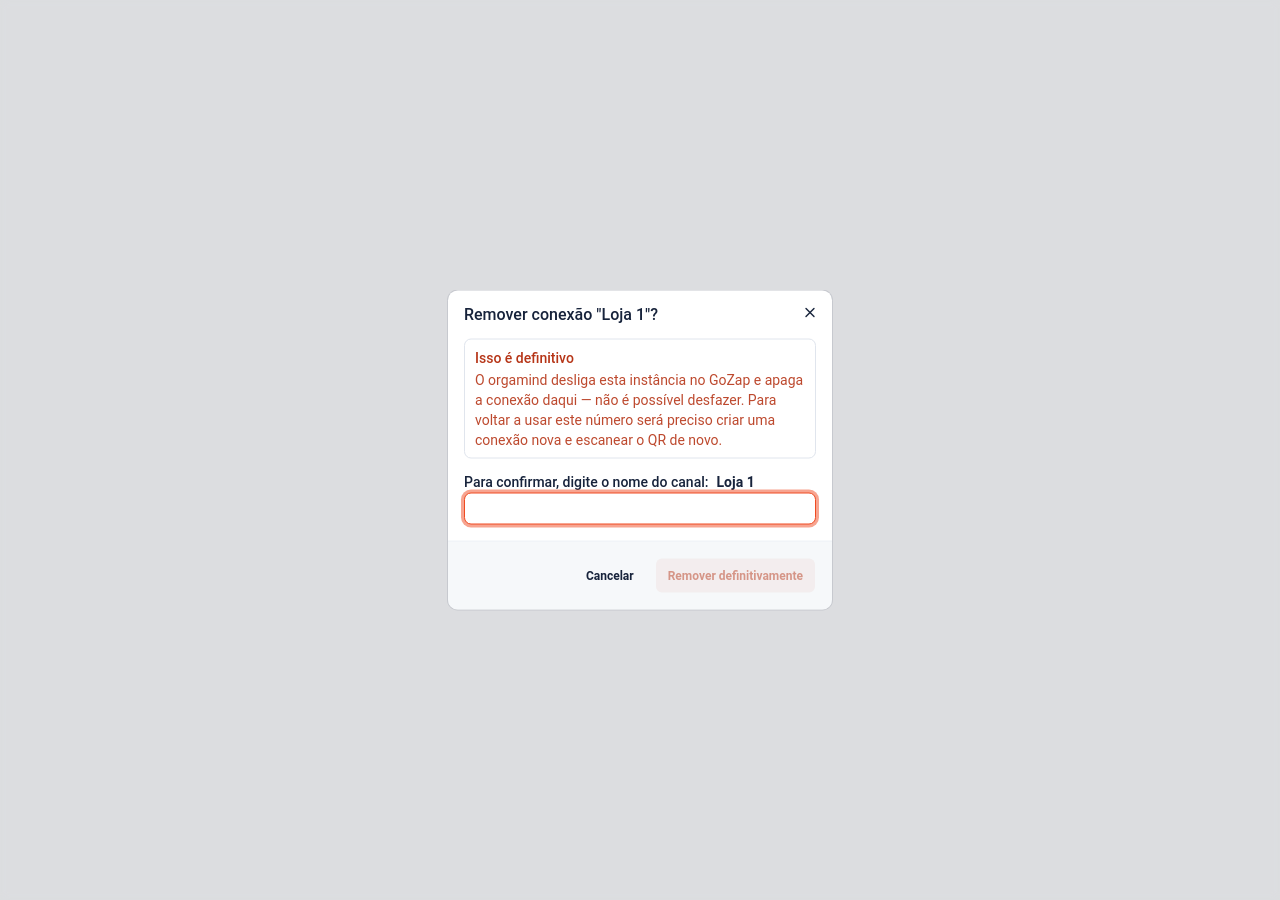
Test case: RemoveGozapChannelDialog › keeps "Remover definitivamente" disabled until the typed name matches exactly
This screenshot has width=1280, height=900.
expect the button "Remover definitivamente" is disabled: met, box [655,558,816,594]
Type "Loja" into the field labelled "Para confirmar, digite o nome do canal: Loja 1" at x=640, y=508, box [464,492,816,524]
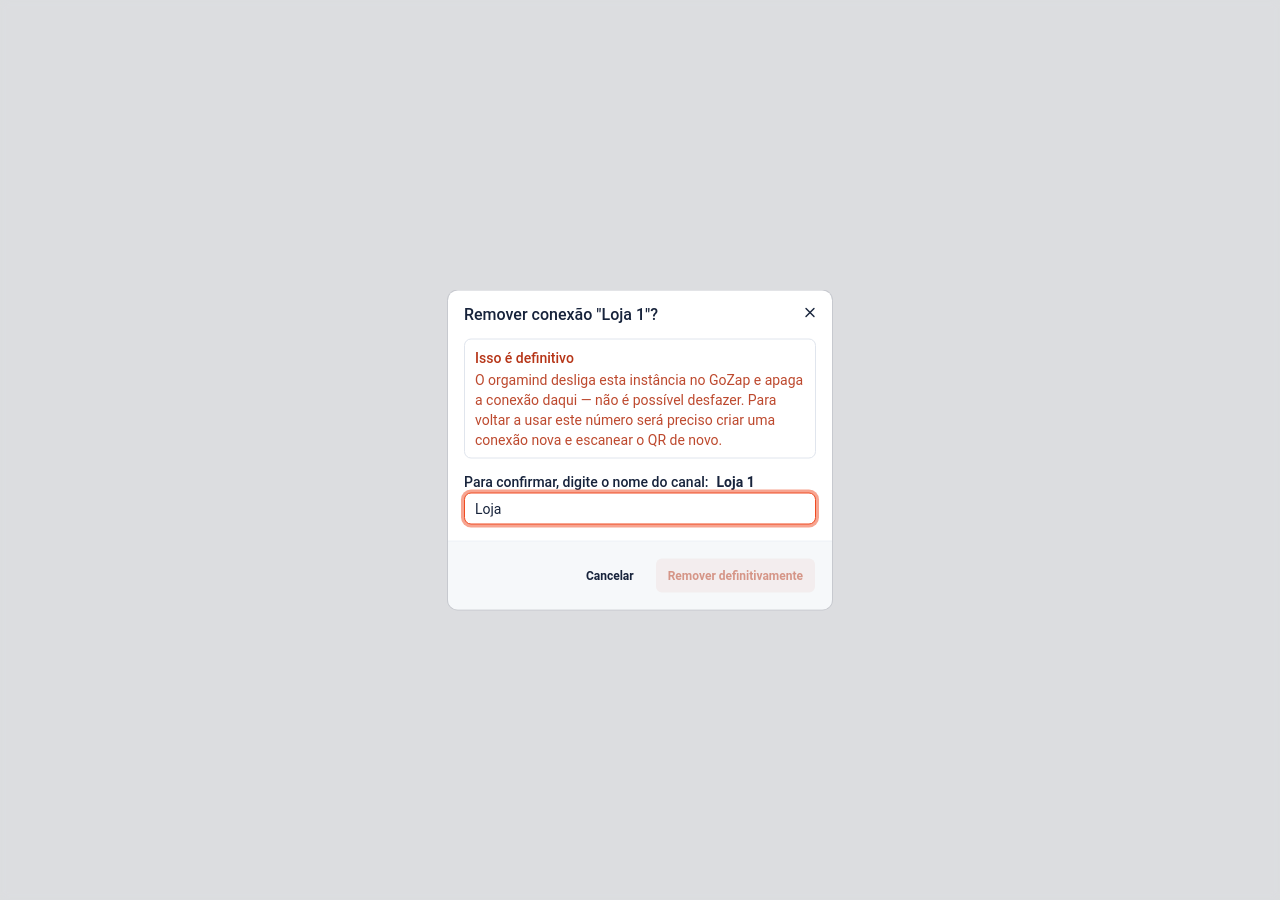
expect the button "Remover definitivamente" is disabled: met, box [655,558,816,594]
Type " 1" into the field labelled "Para confirmar, digite o nome do canal: Loja 1" at x=640, y=508, box [464,492,816,524]
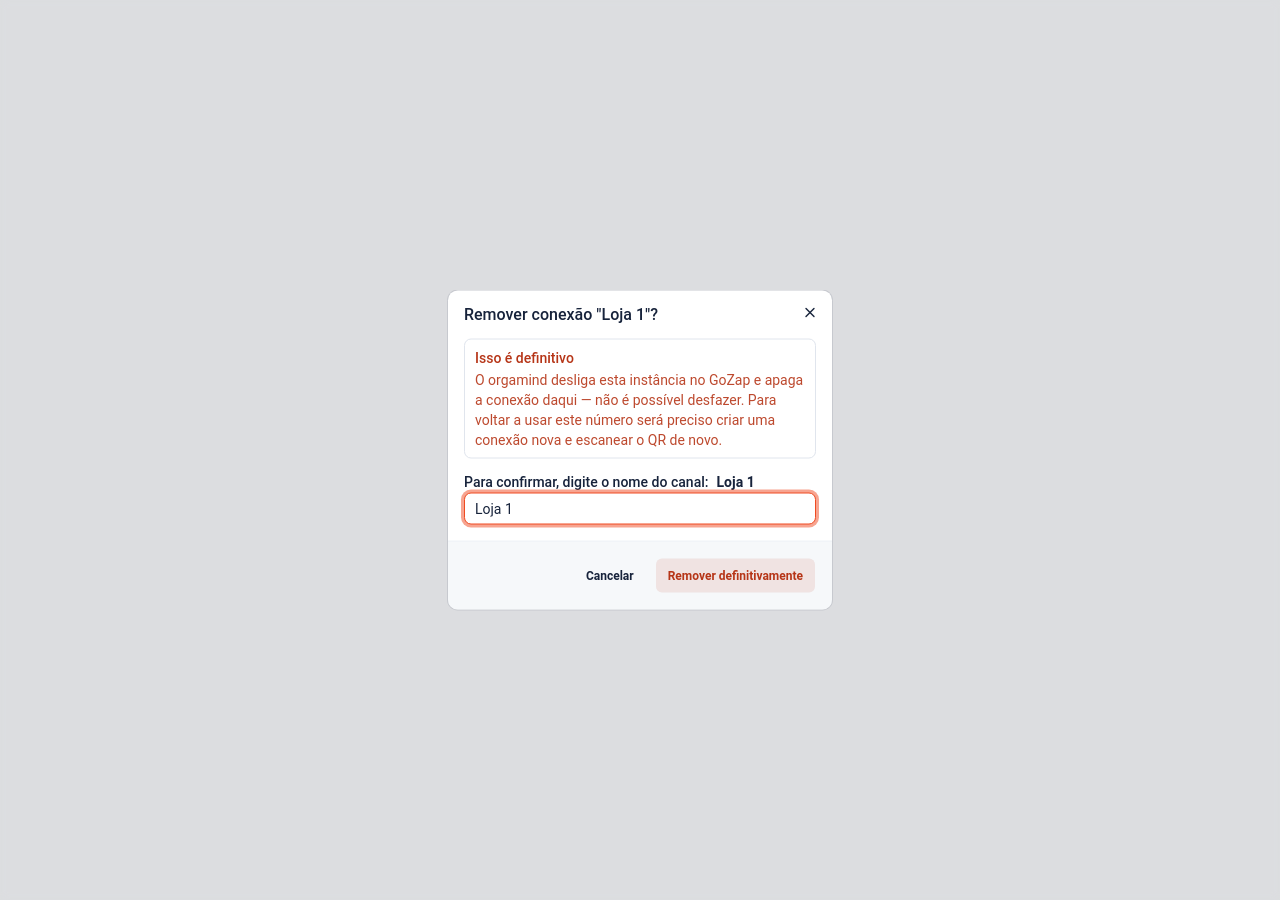
expect the button "Remover definitivamente" is enabled: met, box [655,558,816,594]
